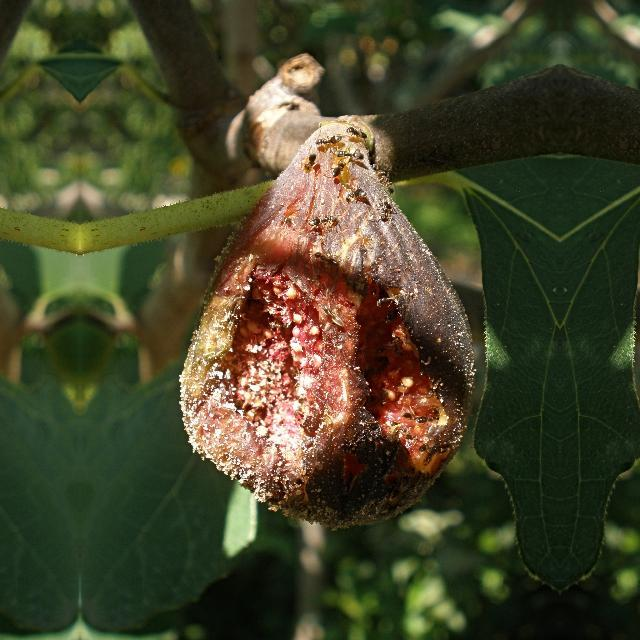Tapinoma: (312, 243, 342, 267), (374, 168, 396, 195), (342, 182, 368, 204), (315, 132, 341, 152), (308, 210, 338, 224), (373, 335, 392, 357), (331, 160, 347, 183), (417, 412, 443, 426), (347, 125, 368, 142), (384, 304, 400, 324), (382, 198, 394, 224), (336, 148, 362, 160), (280, 210, 294, 228), (390, 336, 404, 354), (401, 410, 421, 422), (304, 152, 316, 170), (427, 383, 439, 399)
